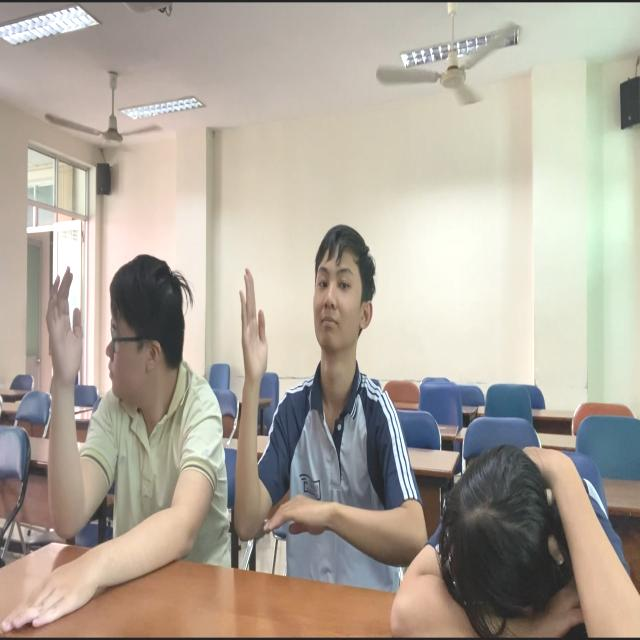raise_hand: (236, 220, 420, 585), (42, 253, 220, 586)
sleep: (390, 426, 640, 640)
